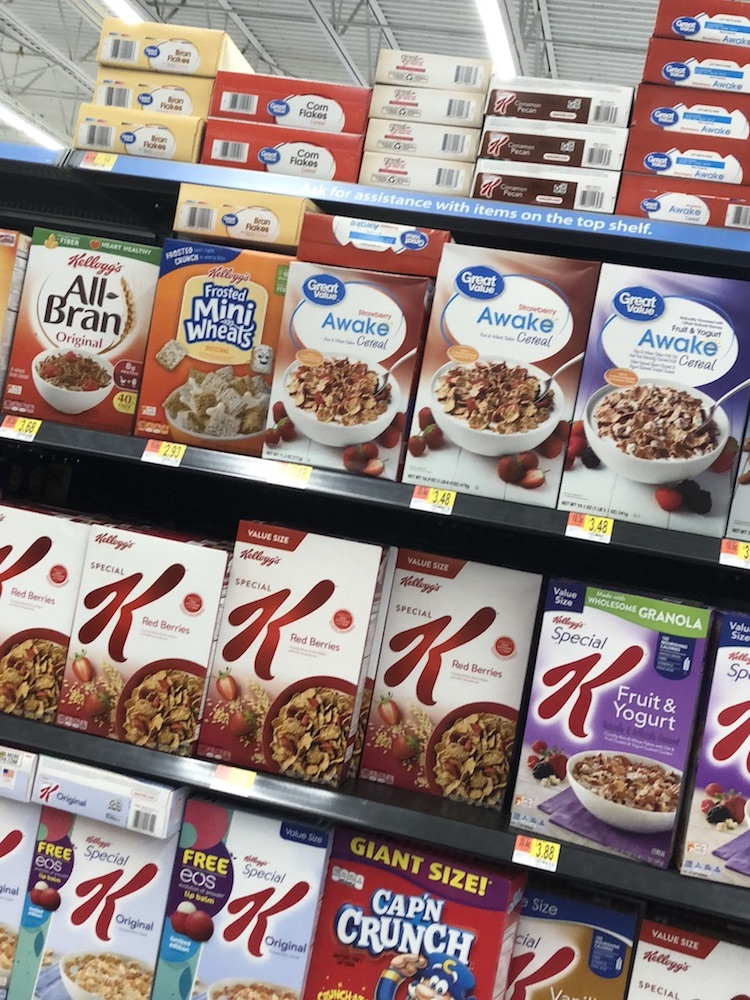Frosted Mini Original -9295869: (154, 253, 276, 442)
